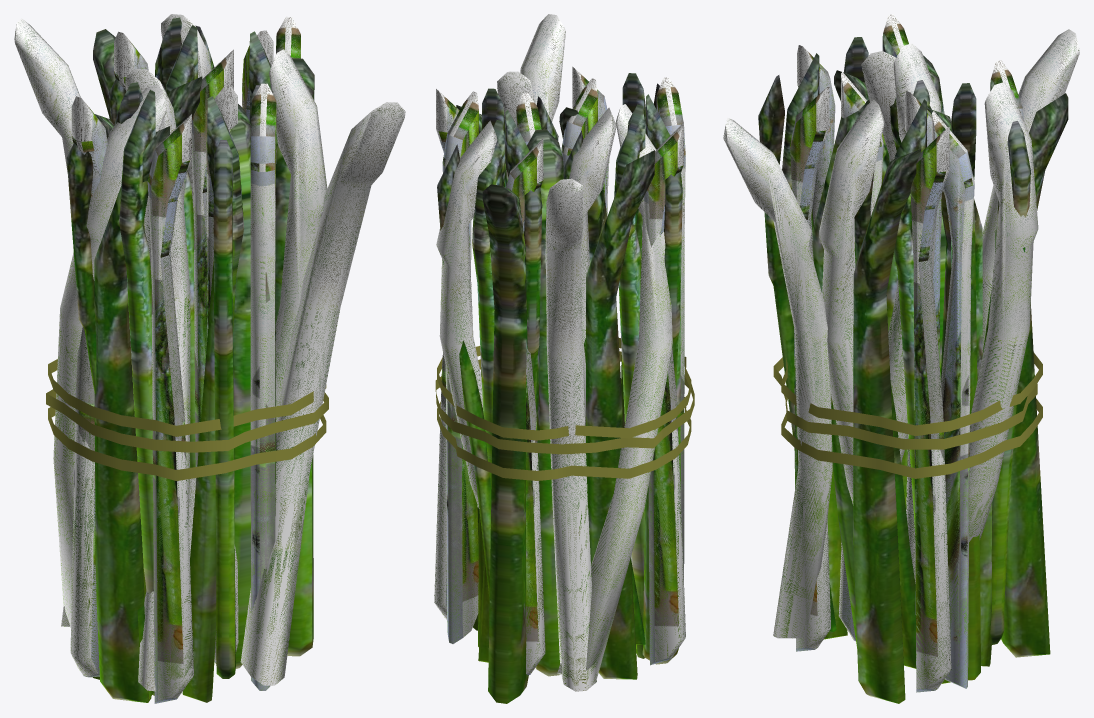
Rendered from asparagus.dae.
3 renders of one model, left to right at view 1: azimuth 30°, elevation 25°; view 2: azimuth 150°, elevation 25°; view 3: azimuth 270°, elevation 25°, orthographic. The views are drawn at different scales.
Parts seen in each view (by area): view 1: group_10, group_38, group_11, group_23, group_21, group_2, group_26, group_12, group_3, group_15, group_22, group_34 (×2) (+17 smaller); view 2: group_32, group_37, group_14, group_3, group_15, group_30, group_13, group_28, group_34 (×2), group_31, group_6, group_36 (+19 smaller); view 3: group_16, group_10, group_17, group_30, group_13, group_32, group_2, group_34 (×2), group_23, group_27, group_37, group_29 (+18 smaller).
Boxes of the visible parts, x1,y1,x2,y2 form: group_10: [240, 102, 405, 685]; group_38: [94, 126, 169, 702]; group_11: [147, 114, 193, 703]; group_23: [250, 83, 276, 690]; group_21: [213, 140, 235, 678]; group_2: [269, 49, 327, 419]; group_26: [182, 96, 244, 702]; group_12: [119, 90, 155, 695]; group_3: [53, 84, 166, 627]; group_15: [70, 96, 107, 677]; group_22: [214, 104, 251, 668]; group_34 (×2): [48, 359, 326, 480]; group_32: [482, 184, 528, 703]; group_37: [545, 178, 596, 691]; group_14: [586, 150, 654, 679]; group_3: [557, 104, 672, 678]; group_15: [643, 122, 685, 665]; group_30: [436, 120, 497, 508]; group_13: [442, 91, 478, 643]; group_28: [527, 129, 563, 676]; group_34 (×2): [437, 338, 691, 480]; group_31: [506, 138, 545, 675]; group_6: [614, 104, 645, 658]; group_36: [472, 120, 504, 488]; group_16: [853, 149, 920, 703]; group_10: [723, 118, 832, 638]; group_17: [910, 127, 951, 692]; group_30: [969, 82, 1038, 541]; group_13: [932, 111, 974, 688]; group_32: [995, 93, 1068, 657]; group_2: [819, 100, 884, 505]; group_34 (×2): [781, 352, 1042, 478]; group_23: [790, 86, 830, 651]; group_27: [990, 121, 1030, 644]; group_37: [982, 29, 1079, 352]; group_29: [950, 83, 980, 680].
Size of the model in its own units: 4.17 by 5.26 by 9.54.
4 materials, 2 textured.
